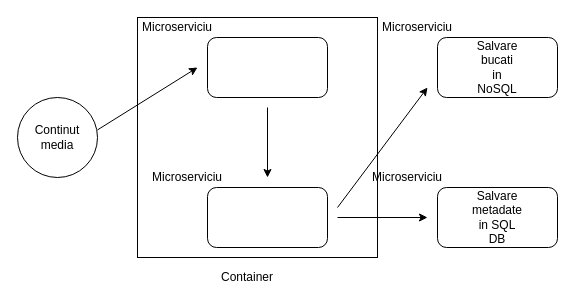
This 575x305 diagram has some shape labels left out. The shapes that lost their labels are listed below. From the top down, each one's centre as x and y in pixels, then its label:
At (267,67): "Incarcare in browser locatia continut".
At (267,217): "Impartire in bucati".
